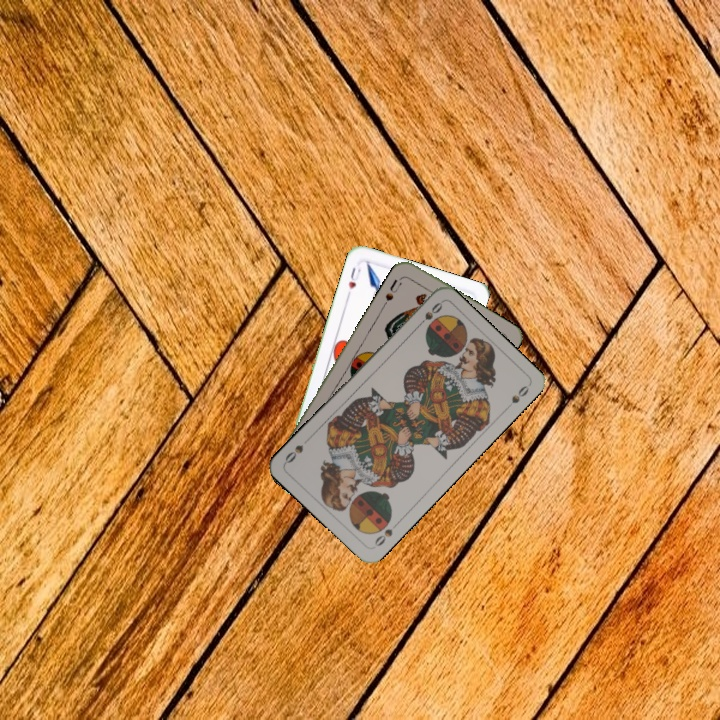HU: (344, 263, 363, 292)
SO: (413, 298, 445, 331), (370, 518, 401, 549)
SU: (381, 272, 406, 304)
